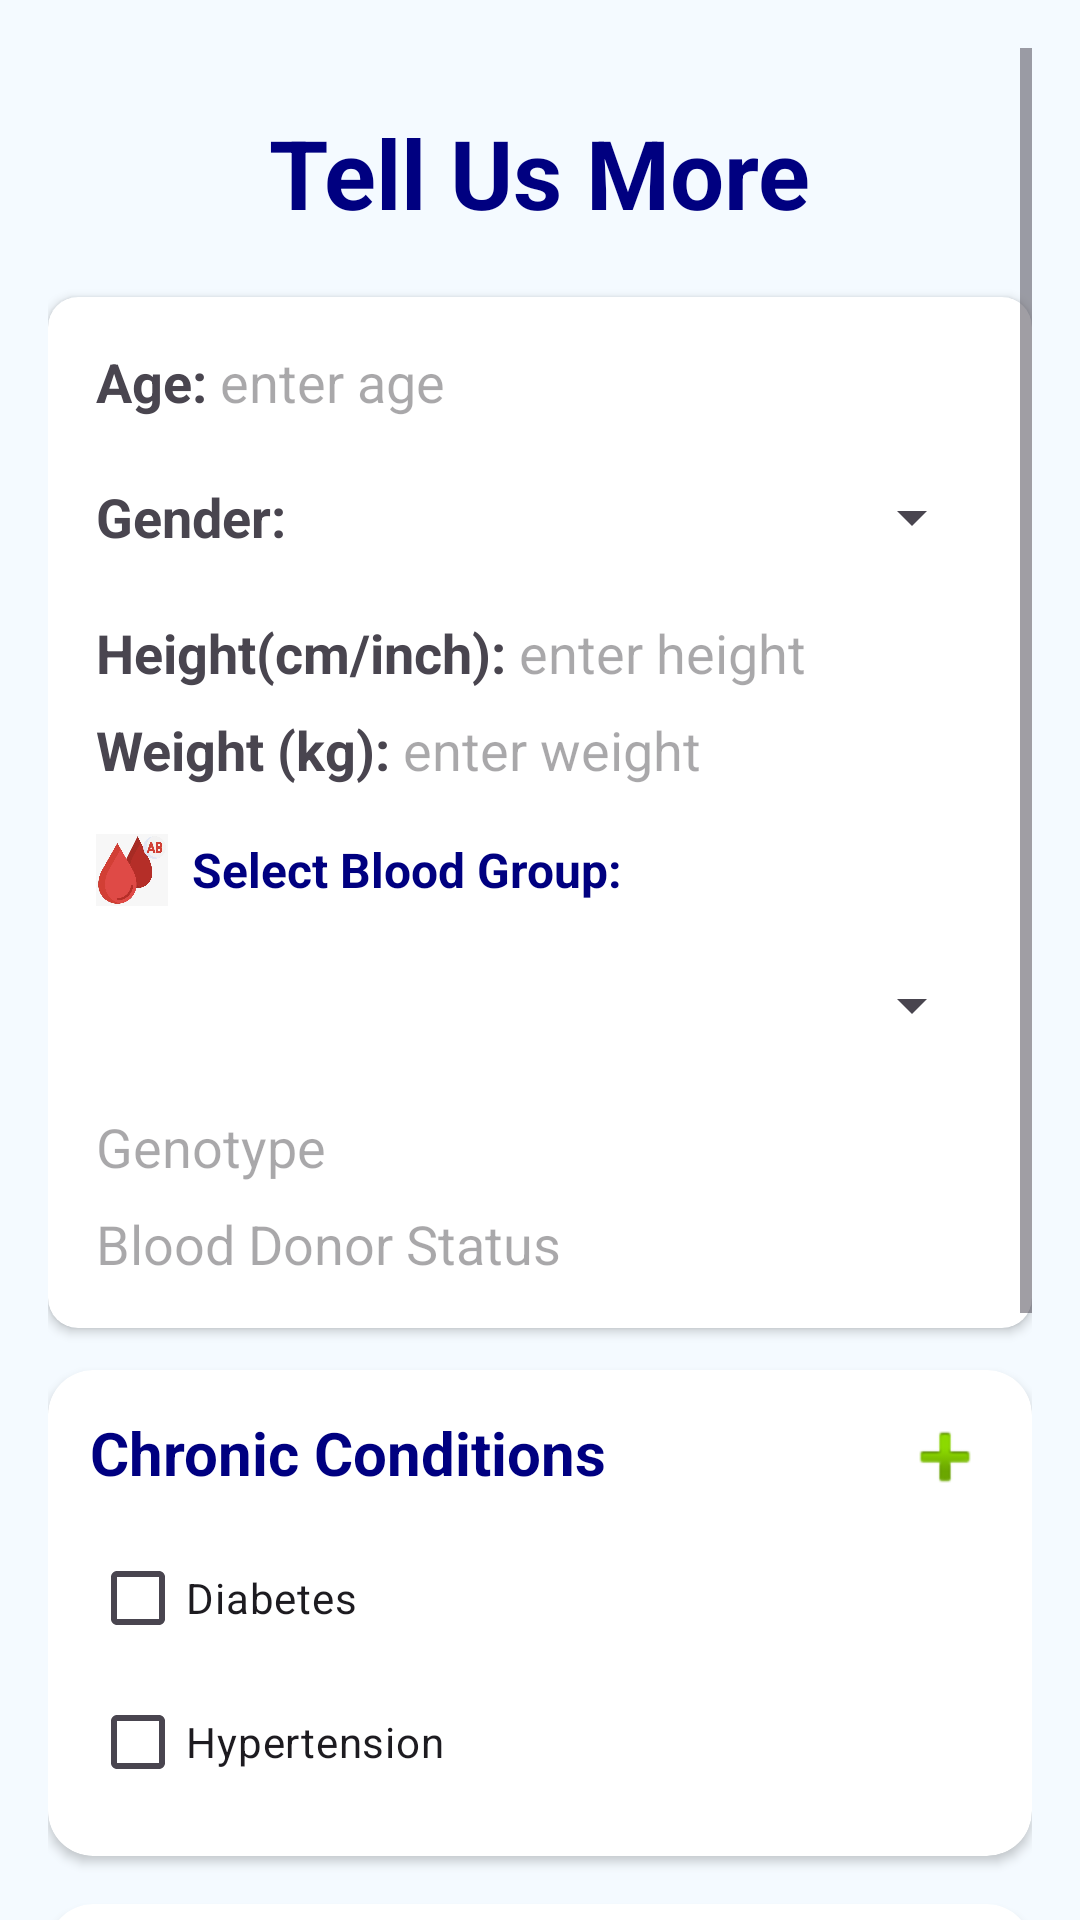

Locate icon controls on the screen. Image size 1080px x 1920px, boxes as (x1, y1, x2, y2).
Add Condition: (919, 1431, 971, 1483)
